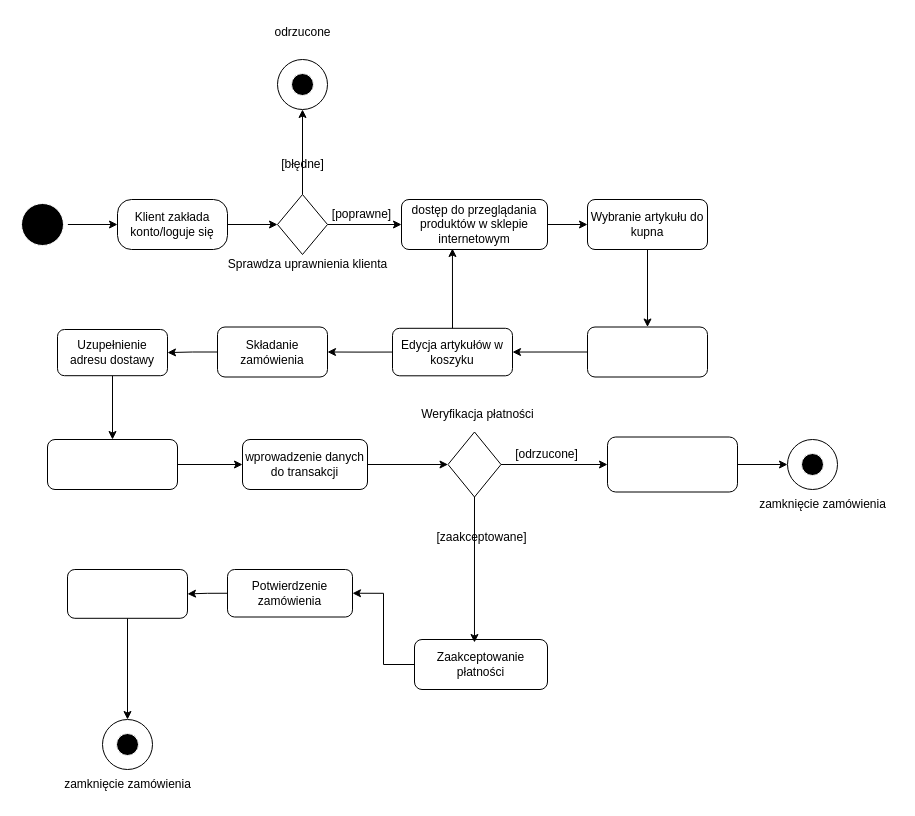
This 915x816 diagram has some shape labels left out. The shapes that lost their labels are listed below. From the top down, each one's centre as x and y in pixels, then its label:
At (x=647, y=351): "Dodanie do koszyka".
At (x=112, y=464): "Wybór sposobu płatności".
At (x=672, y=464): "Poinformowanie o braku płatności".
At (x=127, y=593): "wysyłka/dostawa zamówienia".
